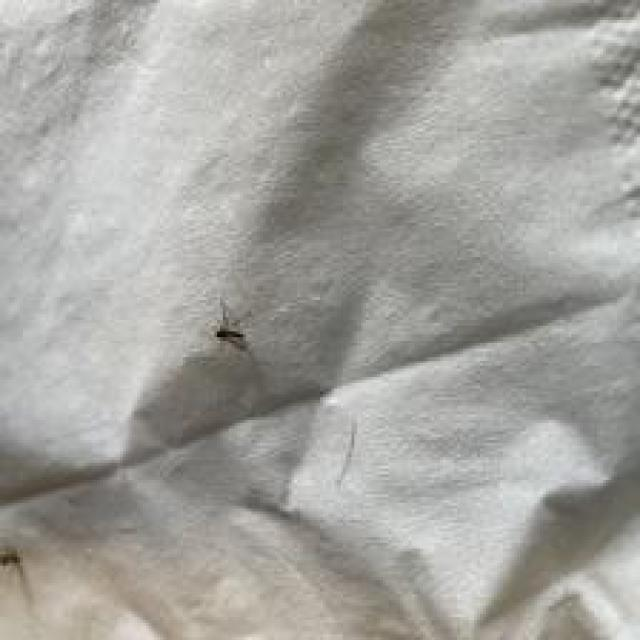Culex: (213, 297, 250, 352)
